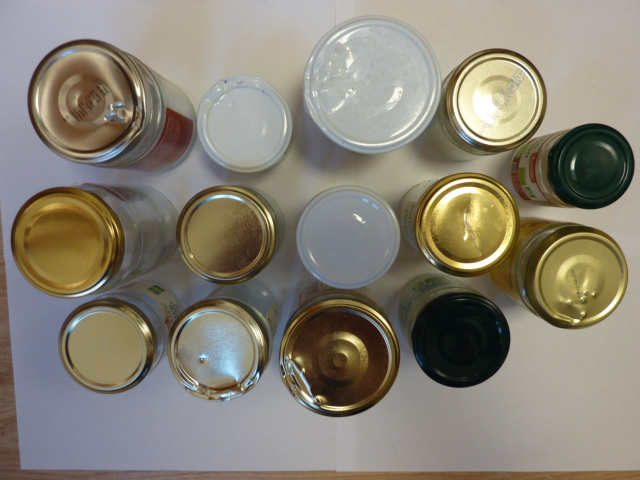damaged: (306, 15, 440, 155), (25, 37, 146, 164)
intact: (9, 187, 123, 300), (412, 291, 513, 390), (57, 301, 158, 394)
